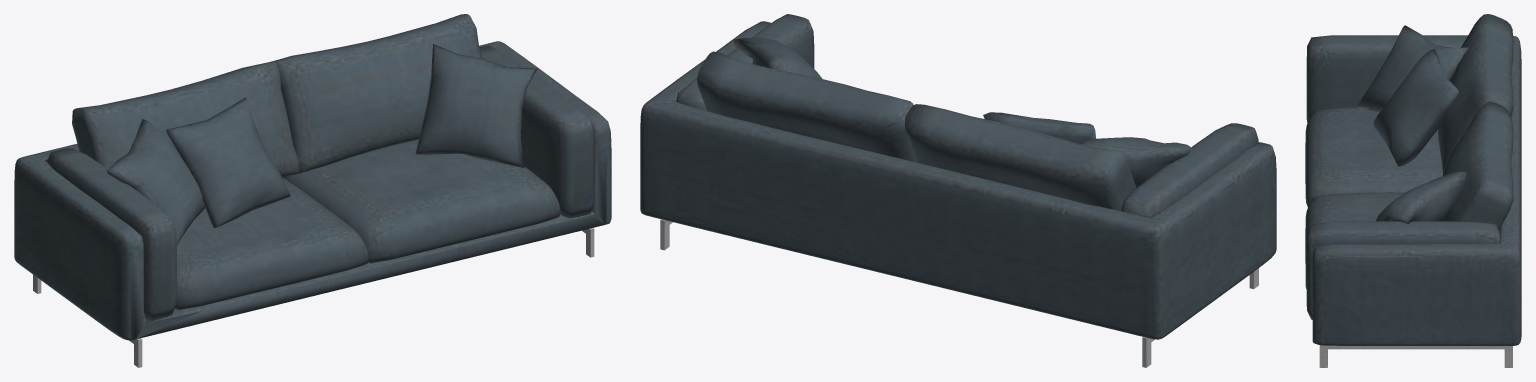
Rendered from sofa-6.glb.
The picture shows the model from 3 angles, left to right: view 1: azimuth 30°, elevation 25°; view 2: azimuth 150°, elevation 25°; view 3: azimuth 270°, elevation 25°; orthographic projection. The views are drawn at different scales.
Parts seen in each view (by area): view 1: almofada01.low.001; view 2: almofada01.low.001; view 3: almofada01.low.001.
Part boxes in pixels (box(x1,y1,x2,y2)): almofada01.low.001: box(14, 14, 611, 367); almofada01.low.001: box(640, 14, 1276, 367); almofada01.low.001: box(1305, 14, 1521, 367).
Size of the model in its own units: 18.48 by 6.55 by 7.67.
1 material, 1 textured.
